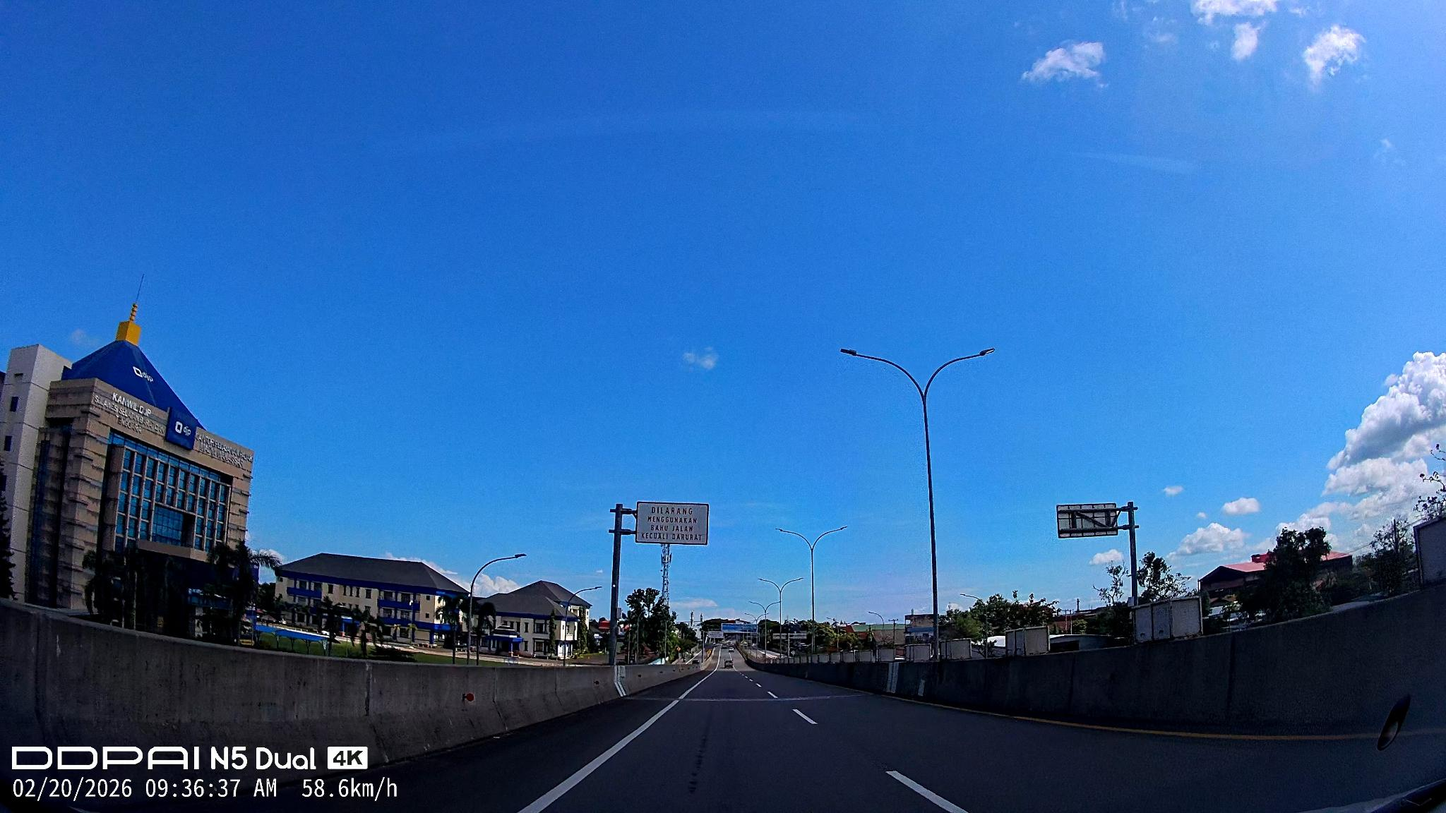rambu_teks: (635, 501, 709, 546)
